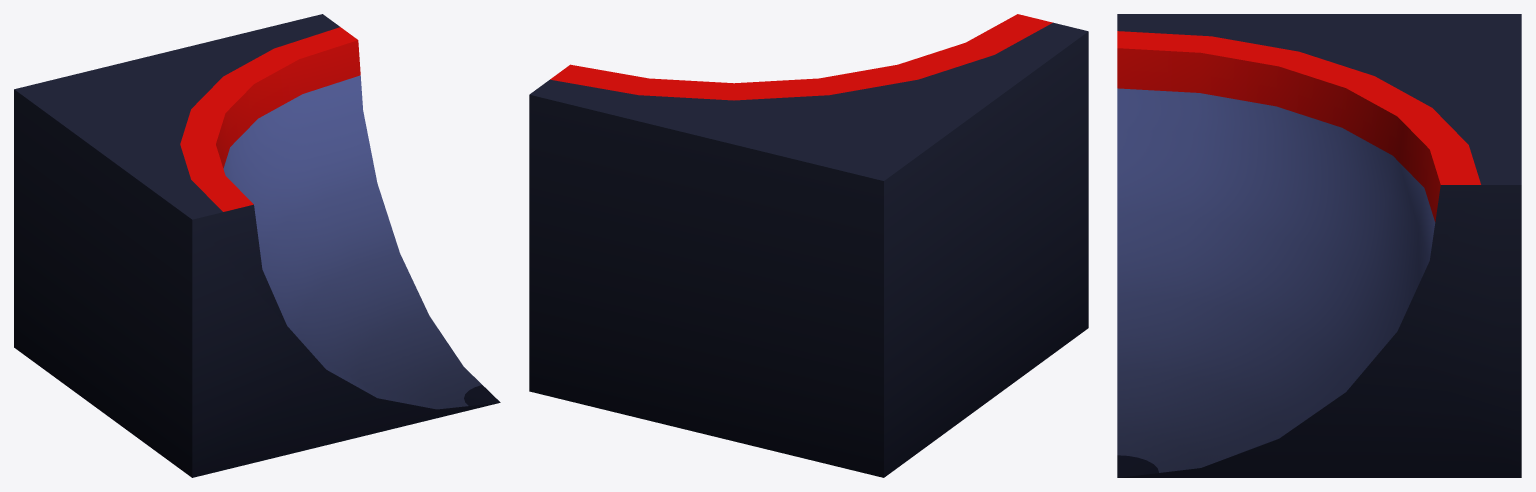
File: bowl-corner-inner.fbx
The picture shows the model from 3 angles, left to right: view 1: azimuth 30°, elevation 25°; view 2: azimuth 150°, elevation 25°; view 3: azimuth 270°, elevation 25°; orthographic projection. The views are drawn at different scales.
Parts seen in each view (by area): view 1: bowl-corner-inner; view 2: bowl-corner-inner; view 3: bowl-corner-inner.
Part boxes in pixels (left/top/right/bottom): bowl-corner-inner: left=14, top=14, right=500, bottom=477; bowl-corner-inner: left=529, top=14, right=1088, bottom=477; bowl-corner-inner: left=1117, top=14, right=1521, bottom=477.
Size of the model in its own units: 10 by 8 by 10.
